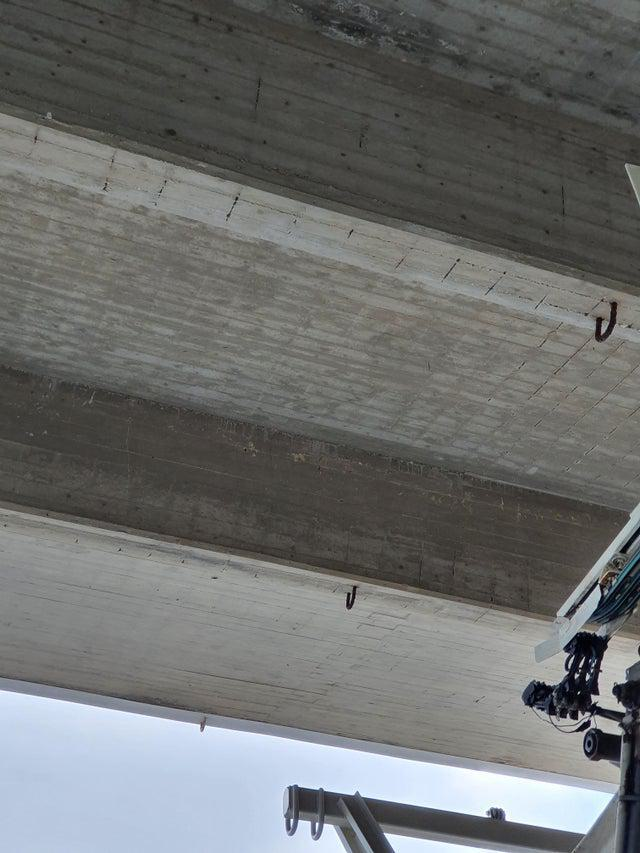Exposed reinforcement: (593, 300, 618, 343), (345, 585, 357, 611), (199, 715, 207, 733)
